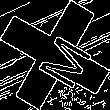M_NW: (21, 22, 89, 88)
